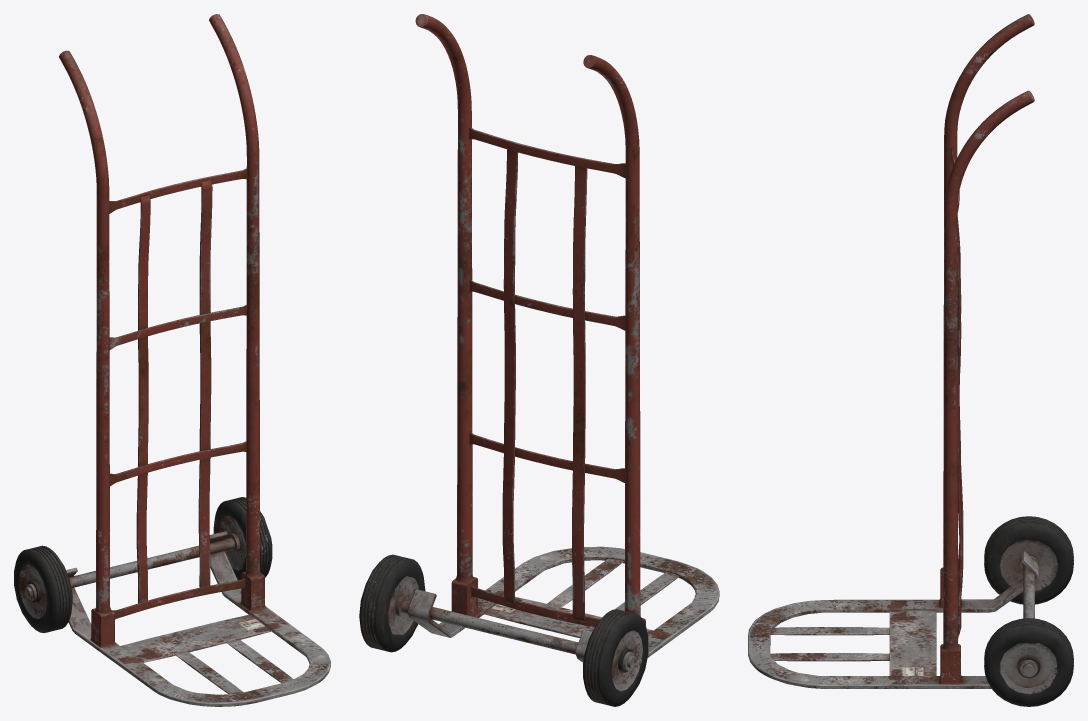
File: hand_truck.glb
3 views of the same model, side by side, from view 1: azimuth 30°, elevation 25°; view 2: azimuth 150°, elevation 25°; view 3: azimuth 270°, elevation 25° (orthographic). The views are drawn at different scales.
Visible parts, largest first — view 1: hand_truck; view 2: hand_truck; view 3: hand_truck.
Part boxes in pixels (bbox=[...]): hand_truck: bbox=[14, 14, 330, 706]; hand_truck: bbox=[359, 14, 719, 706]; hand_truck: bbox=[748, 14, 1073, 706].
Bounding box in the file's own units: 0.5932 × 1.4 × 0.6923.
Materials: 1 (1 with a texture image).
